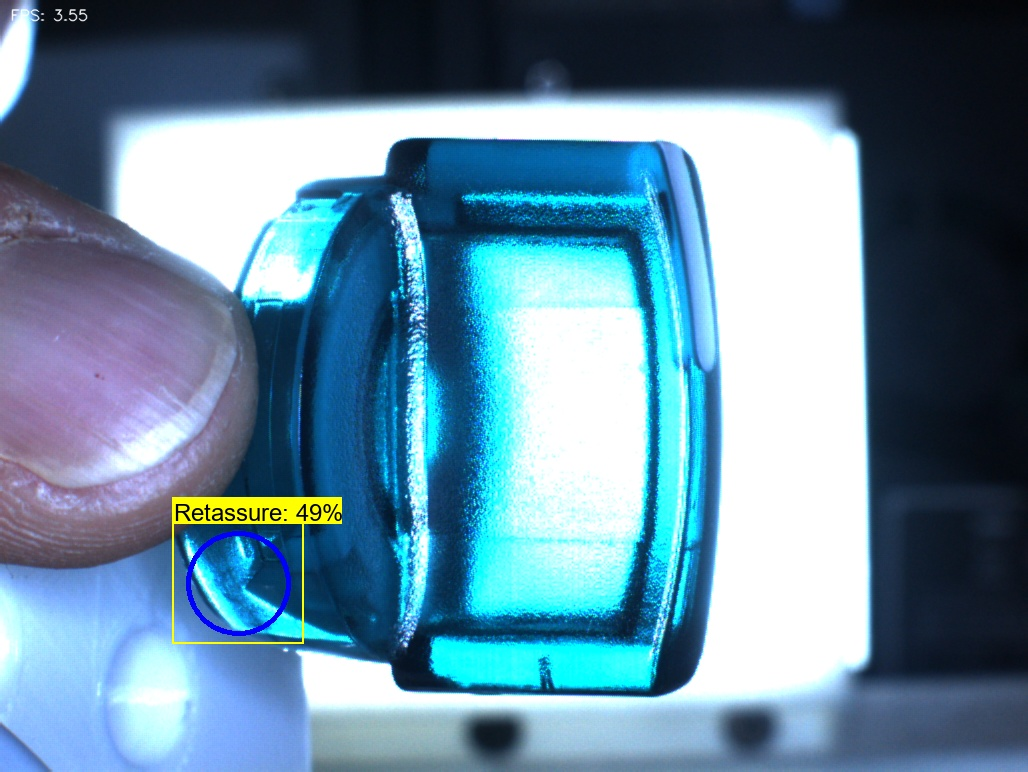Bulle: (500, 632, 591, 718)
